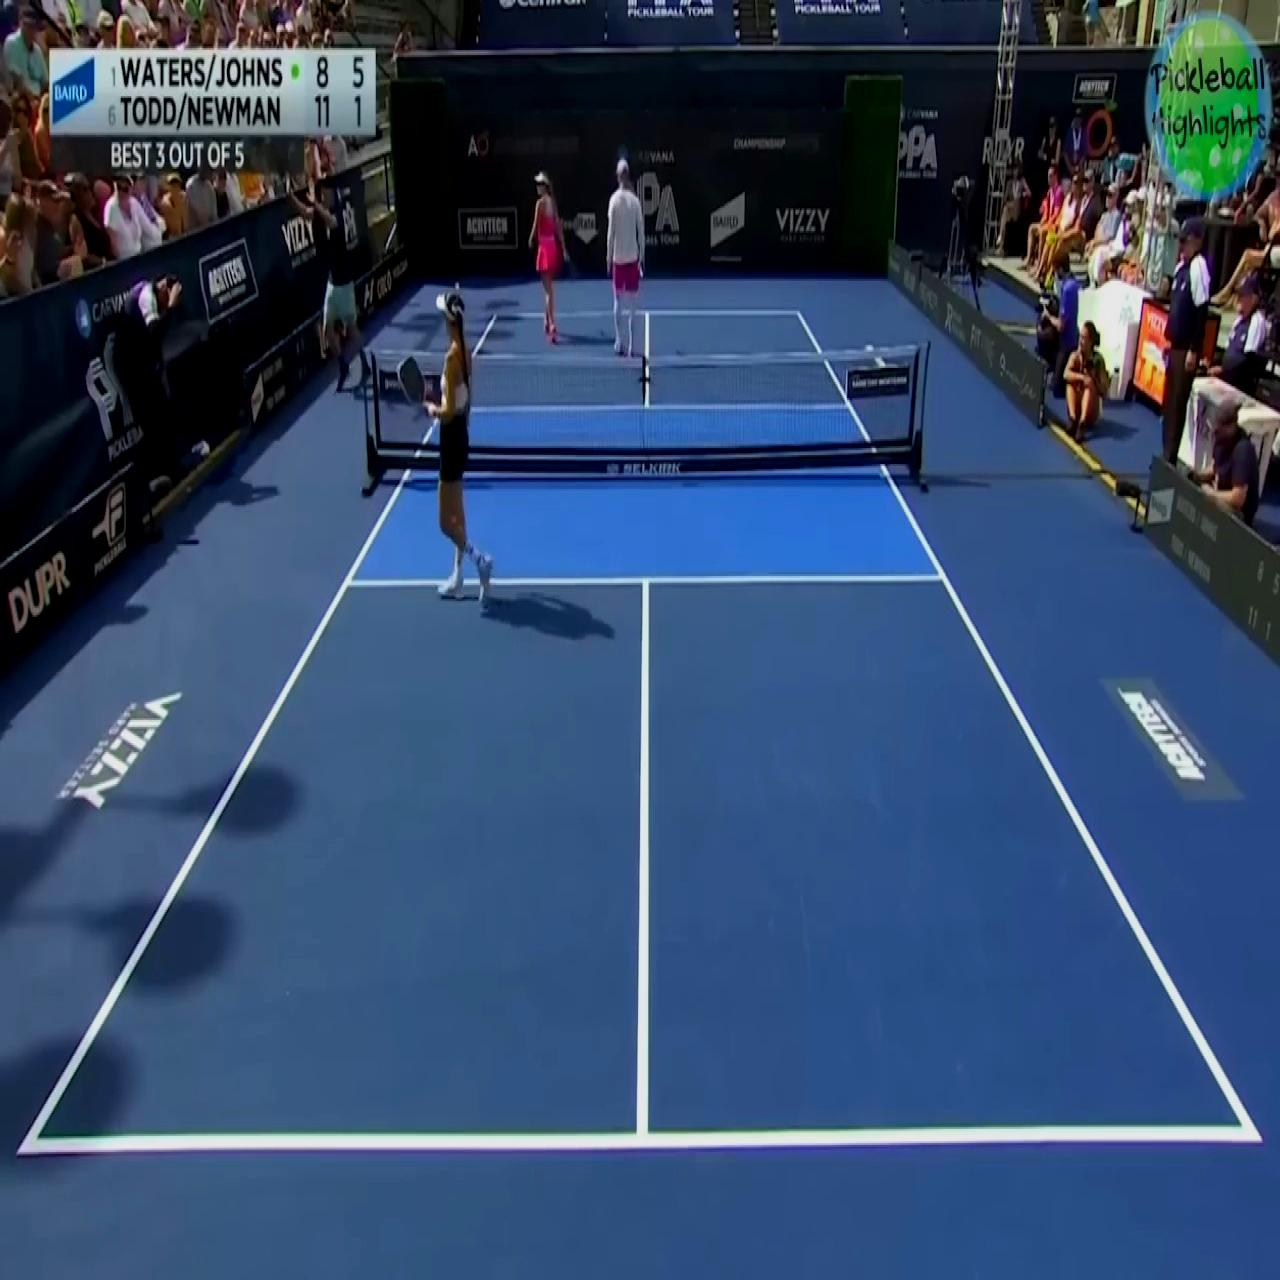Pickleball: (454, 278, 461, 292)
